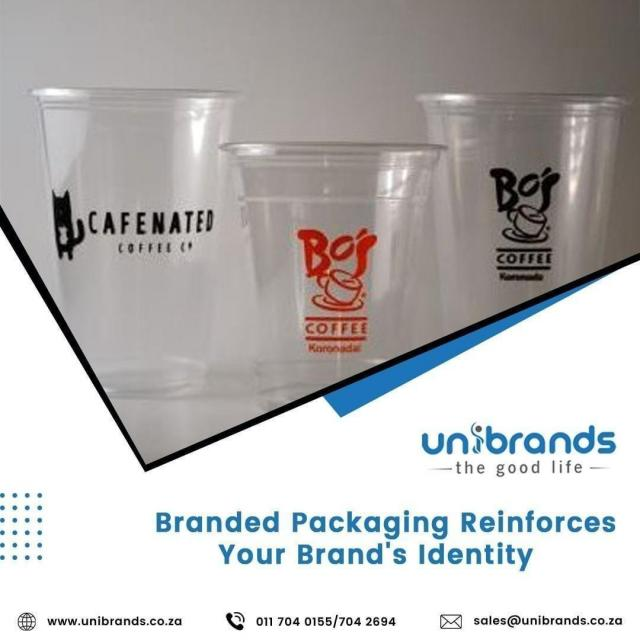cup-disposable: (30, 79, 238, 396), (216, 134, 446, 398), (410, 86, 631, 322)
